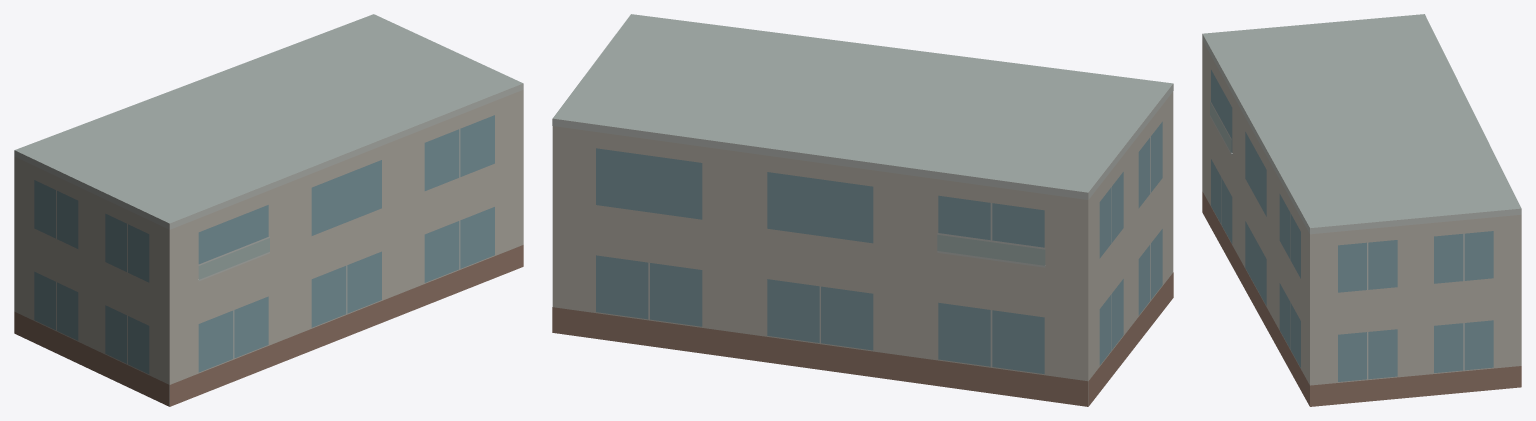
File: survey-upis-32616224.glb
The picture shows the model from 3 angles, left to right: view 1: azimuth 30°, elevation 25°; view 2: azimuth 150°, elevation 25°; view 3: azimuth 270°, elevation 25°; orthographic projection. The views are drawn at different scales.
Visible parts, largest first — view 1: survey-upis-32616224.tmp; view 2: survey-upis-32616224.tmp; view 3: survey-upis-32616224.tmp.
Boxes of the visible parts, x1=… form: survey-upis-32616224.tmp: x1=14, y1=14, x2=523, y2=406; survey-upis-32616224.tmp: x1=552, y1=14, x2=1173, y2=406; survey-upis-32616224.tmp: x1=1202, y1=14, x2=1521, y2=406.
Size of the model in its own units: 18.21 by 7.08 by 11.47.
